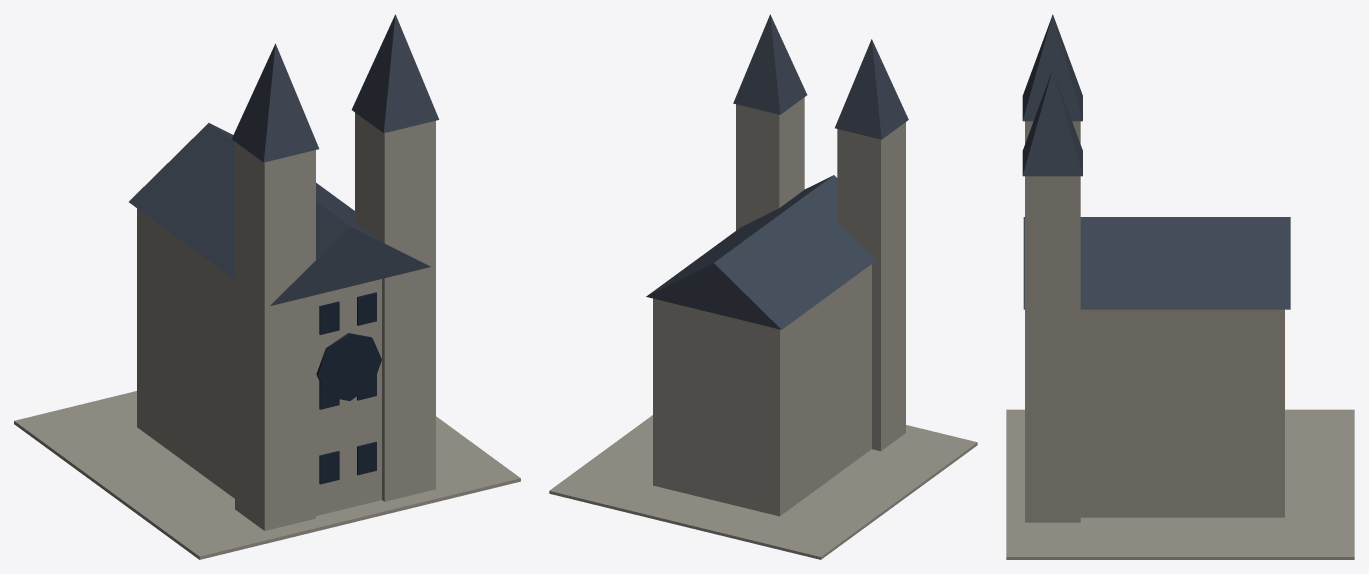
Rendered from bld_special_temple_a03_lod1.glb.
3 views of the same model, side by side, from view 1: azimuth 30°, elevation 25°; view 2: azimuth 150°, elevation 25°; view 3: azimuth 270°, elevation 25° (orthographic). The views are drawn at different scales.
Visible parts, largest first — view 1: body; view 2: body; view 3: body.
Part boxes in pixels (bbox=[...]): body: bbox=[14, 14, 520, 559]; body: bbox=[549, 14, 977, 559]; body: bbox=[1006, 14, 1354, 559].
Size of the model in its own units: 15 by 21.15 by 15.
